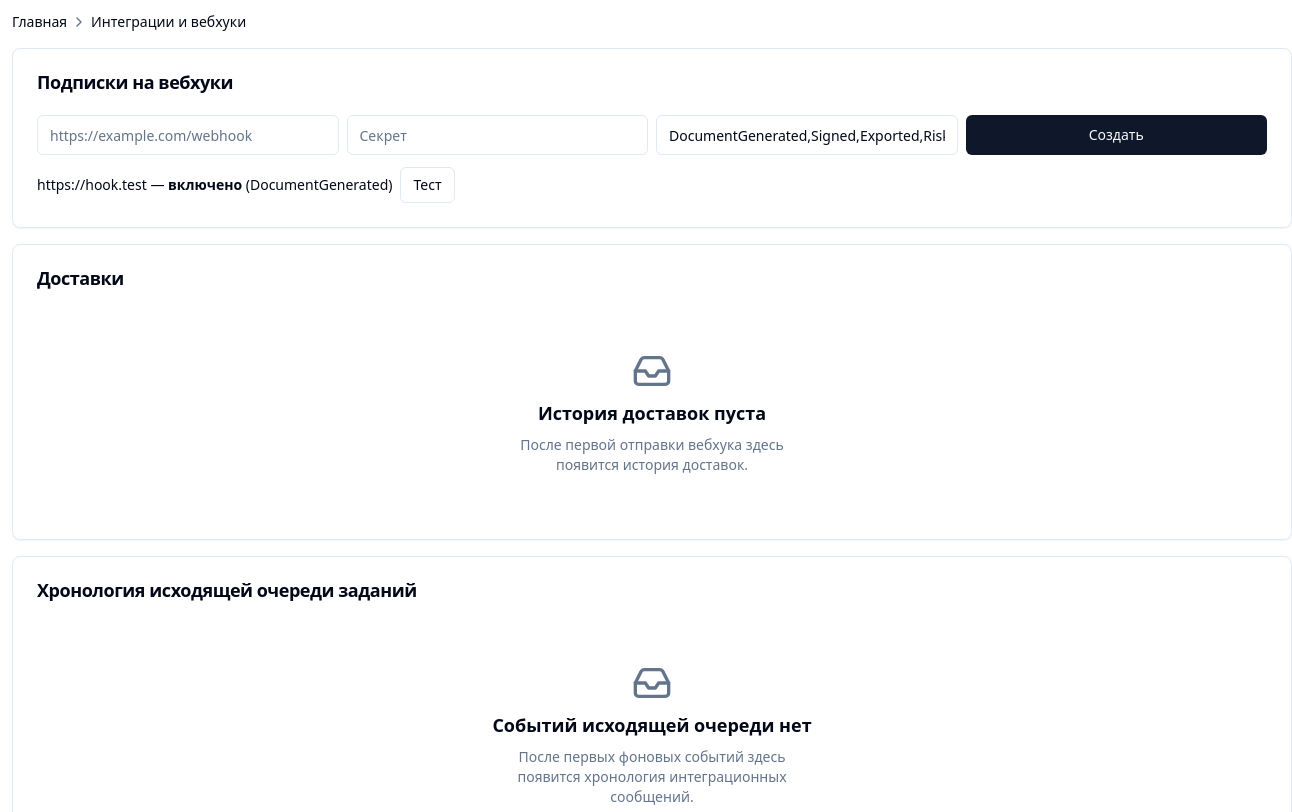
Test: OutboxPage › keeps endpoint list visible when test action fails
Expected: the list item "https://hook.test — включено (DocumentGenerated) Тест" is shown, [37,167,455,203]
Click the button "Тест" at (428, 185), box [400,167,455,203]
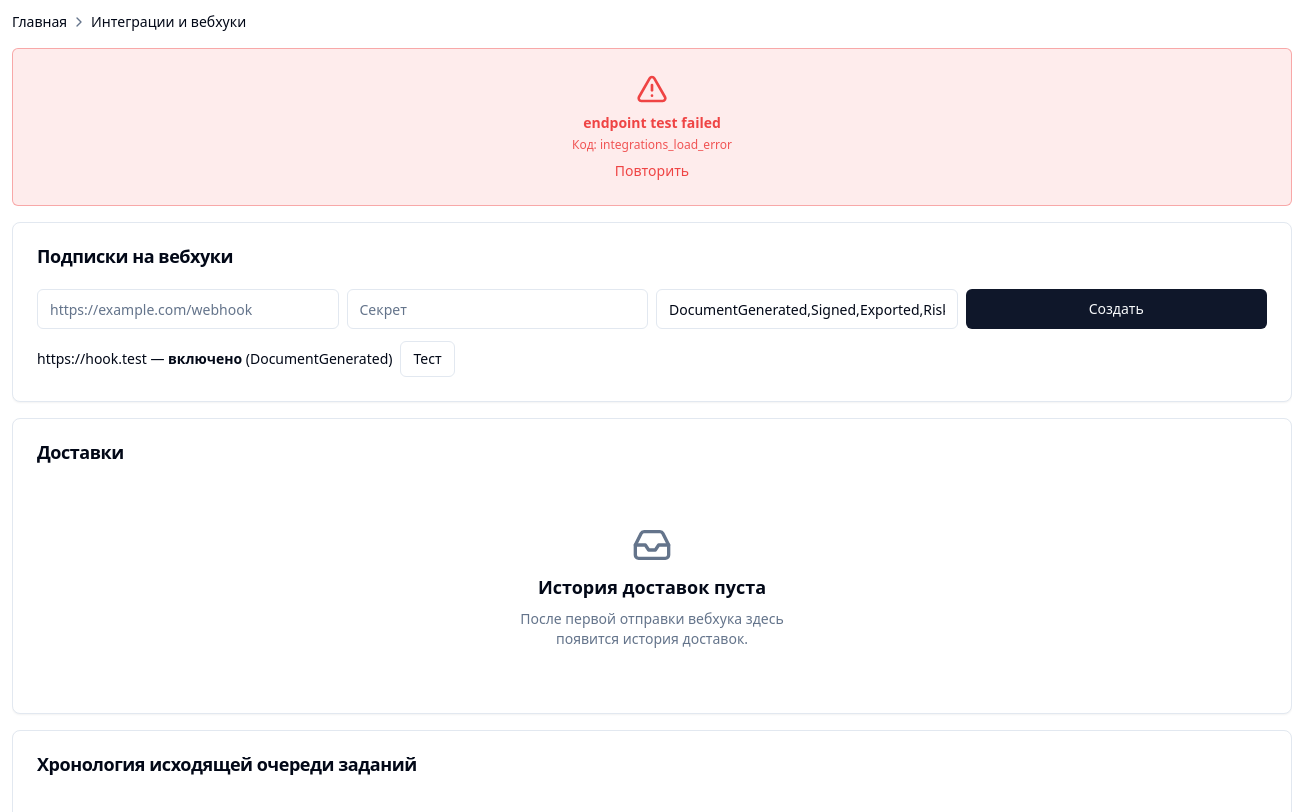
Expected: the list item "https://hook.test — включено (DocumentGenerated) Тест" is shown, [37,341,455,377]
Expected: the message shows "endpoint test failed", [583,113,721,132]
